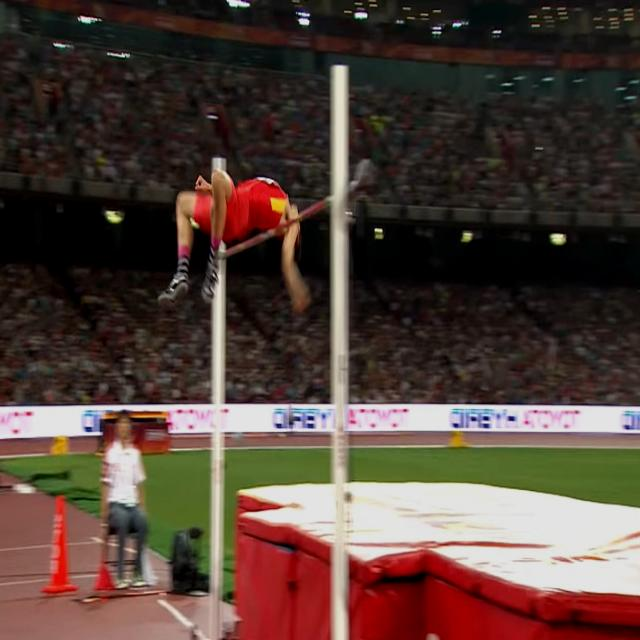jump: (157, 167, 310, 308)
